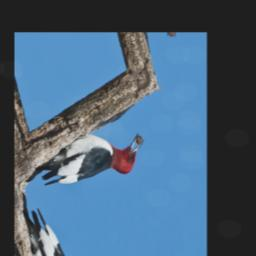Woodpecker: (37, 90, 147, 230)
